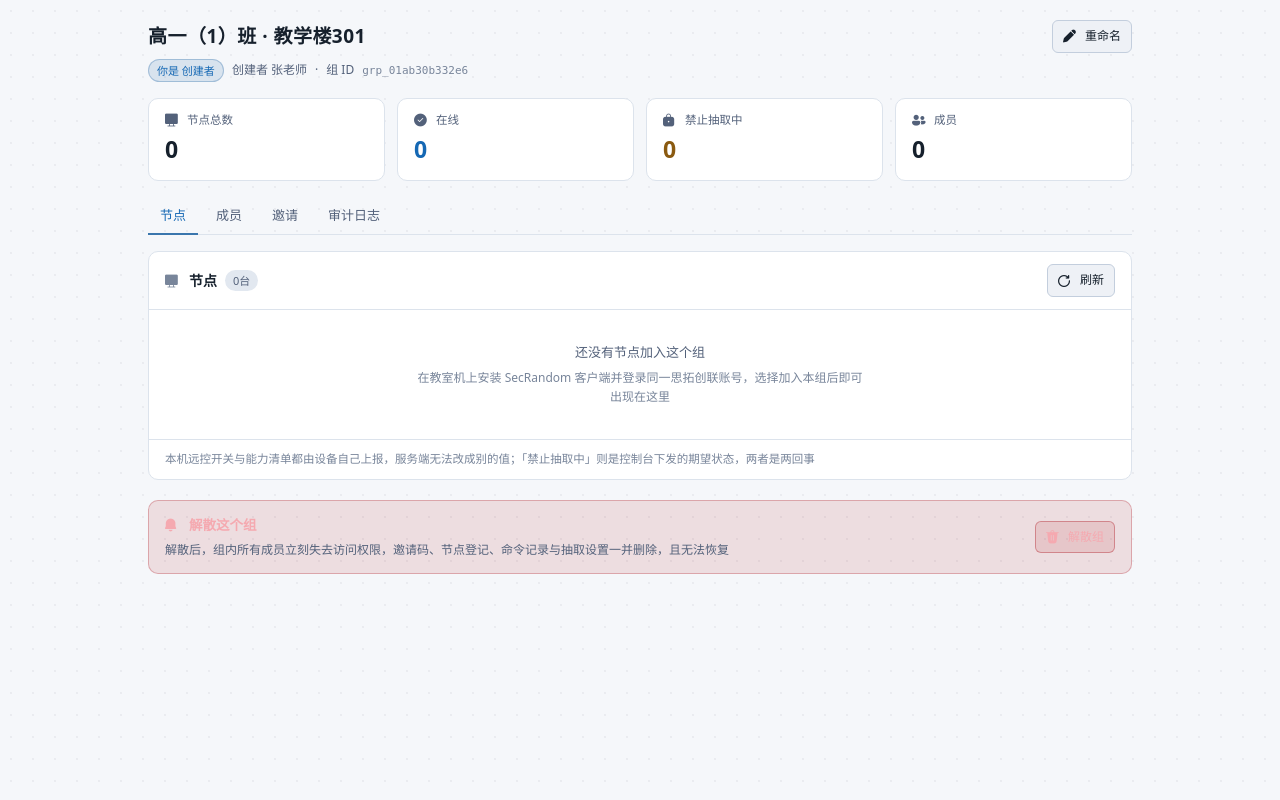
Test: GroupDetailView 重命名组 › 服务端拒绝时把错误码渲染成文案，对话框保持打开
The image size is (1280, 800).
Click the button with test id "group-rename-open" at (1092, 36), box [1052,20,1132,53]
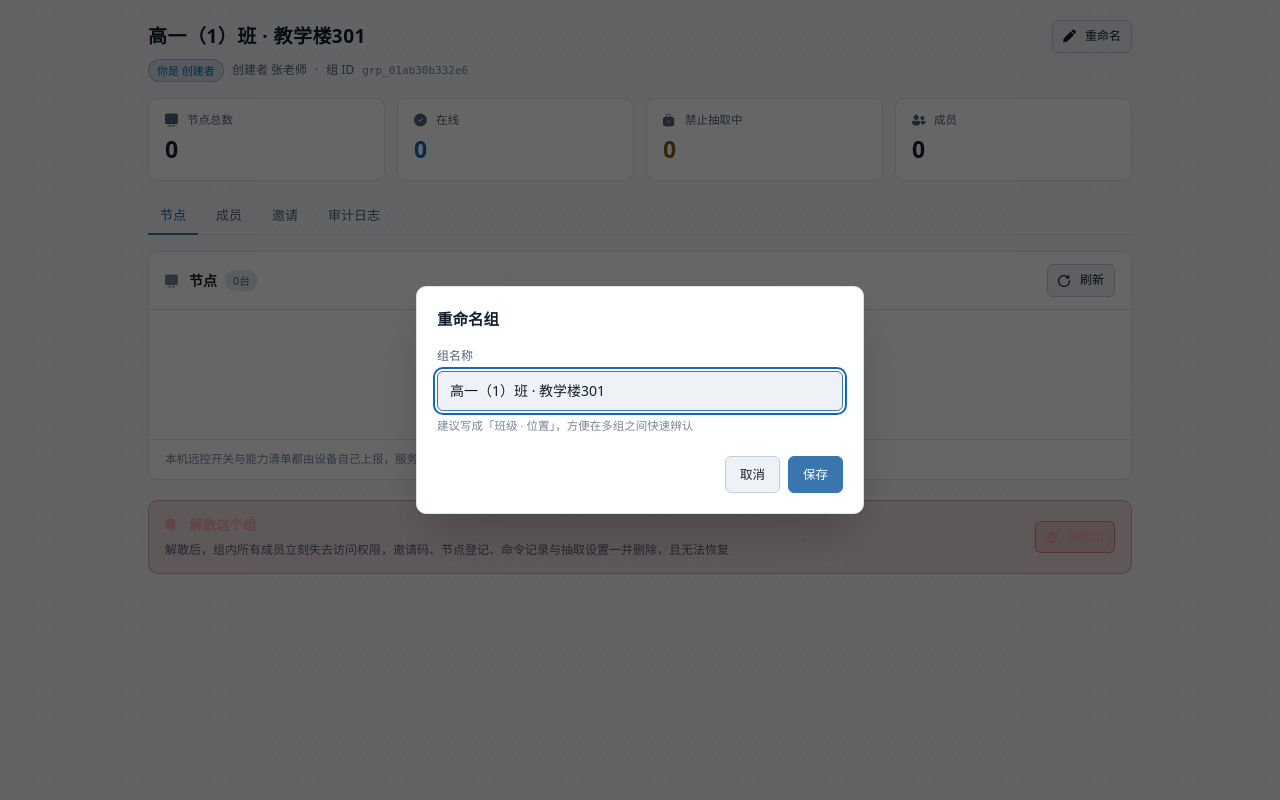
Replace the text in the field with test id "rename-name" with "新名字" at (640, 391), box [437,371,843,411]
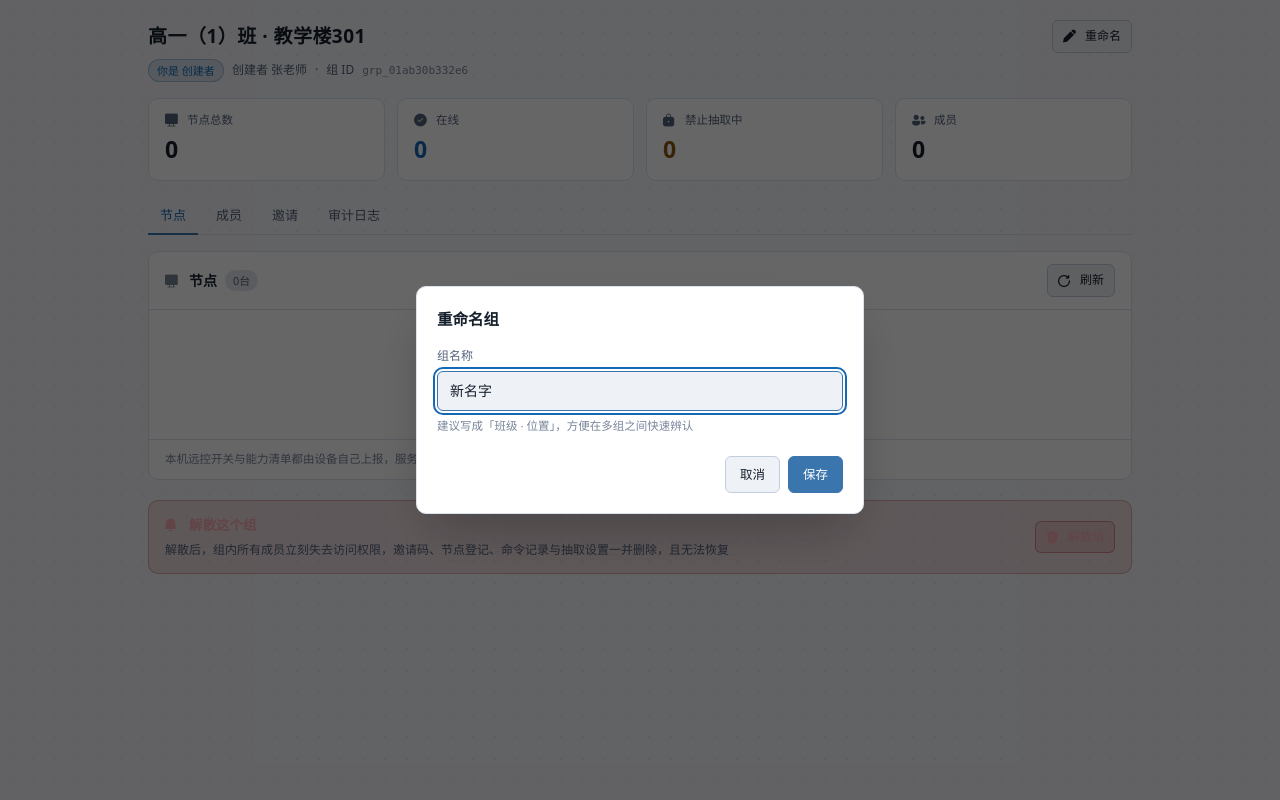
Submit the form, box [416,286,864,514]
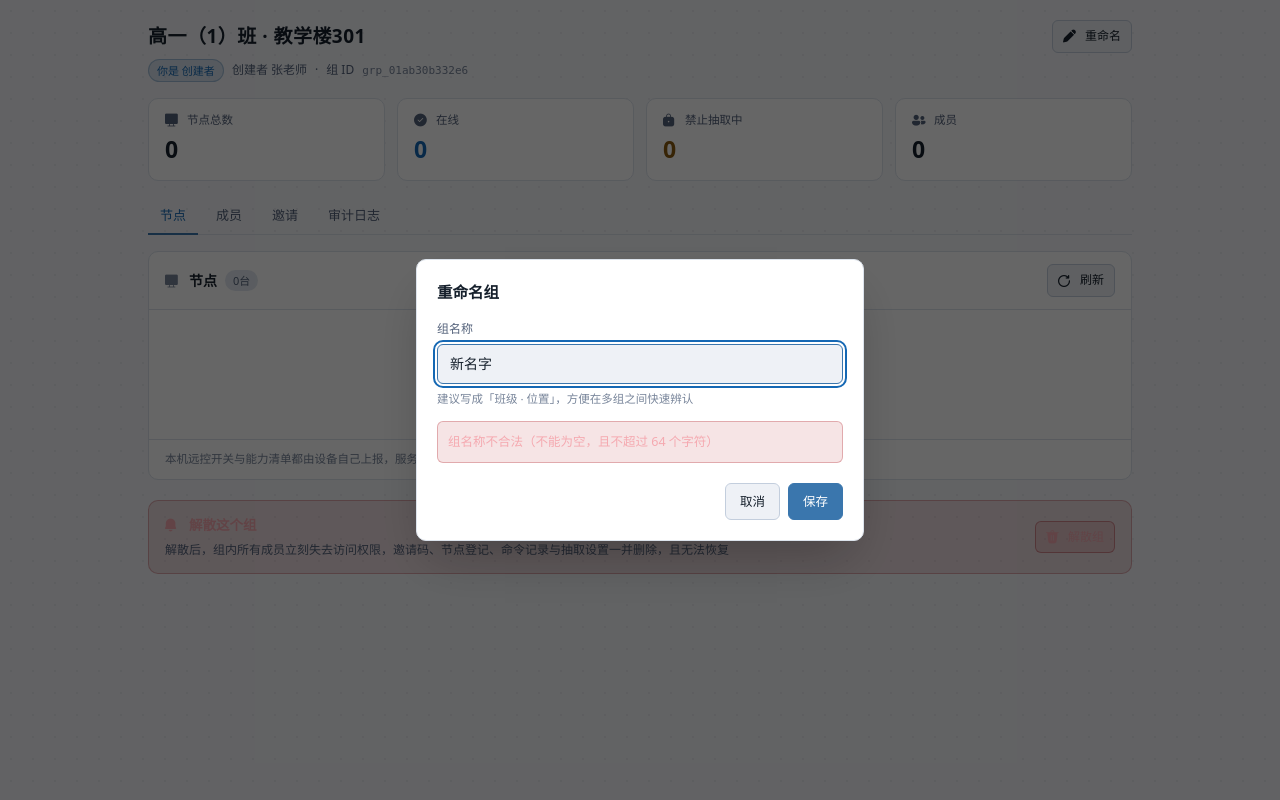
Expected: the dialog with test id "rename-dialog" is shown
Expected: the text with test id "rename-error" shows "组名称不合法", [448,433,719,450]
